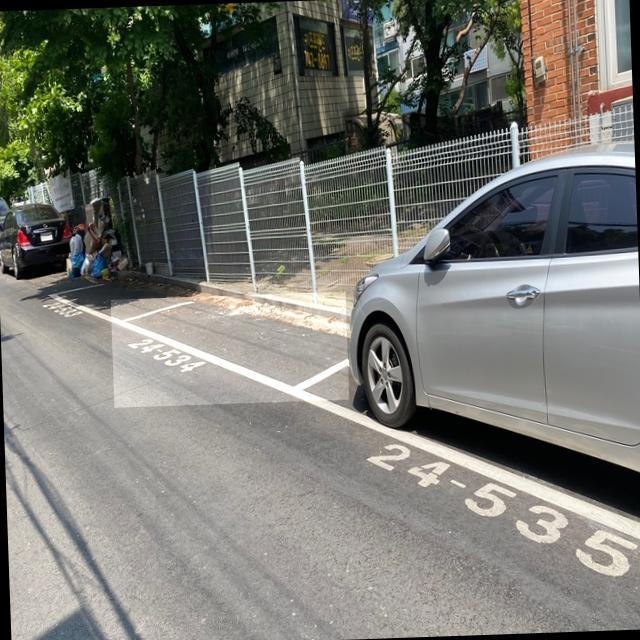empty: (111, 297, 348, 401)
